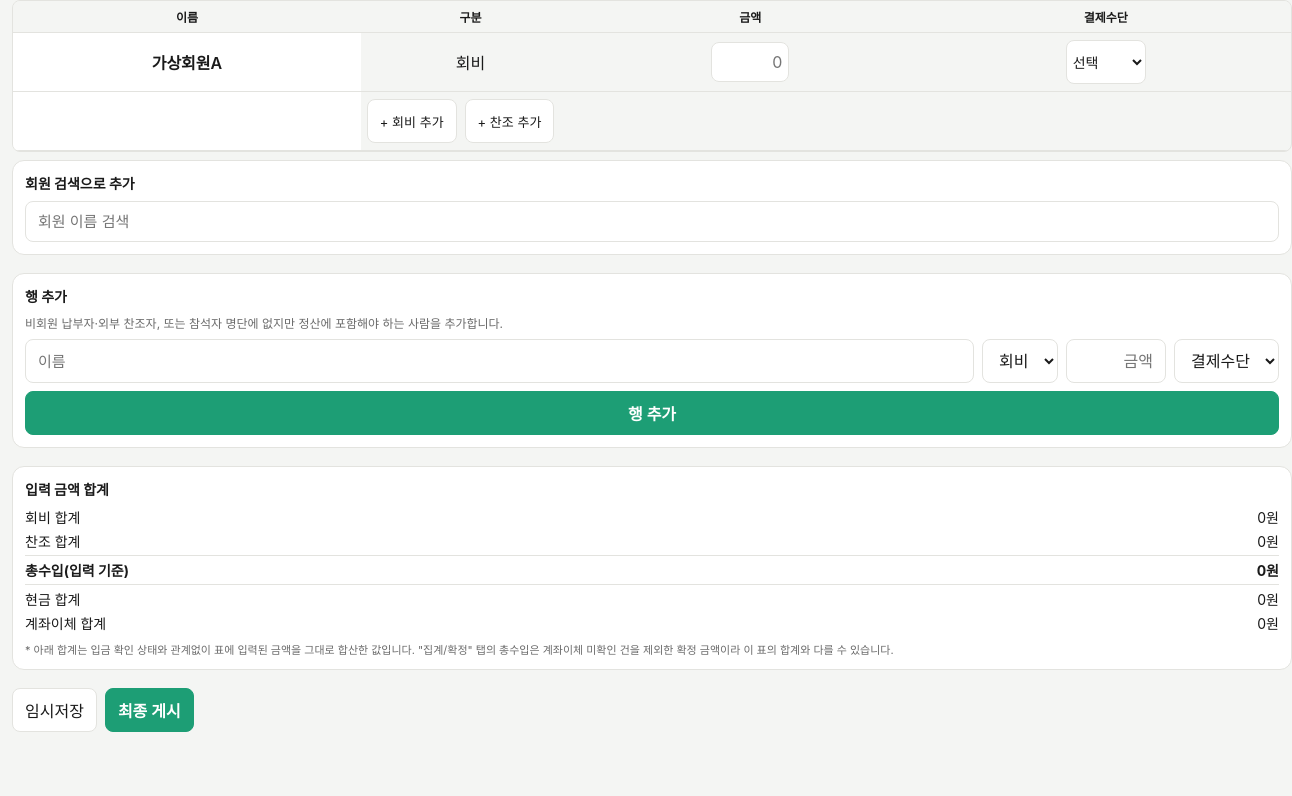
Test: 4. 계좌이체 찬조 › 상태 select 노출, 기본값 미확인, 총수입 제외, 미확인 합계 포함
This screenshot has width=1292, height=796.
Click the button "+ 찬조 추가". click: (510, 121)
box: [465,99,554,143]
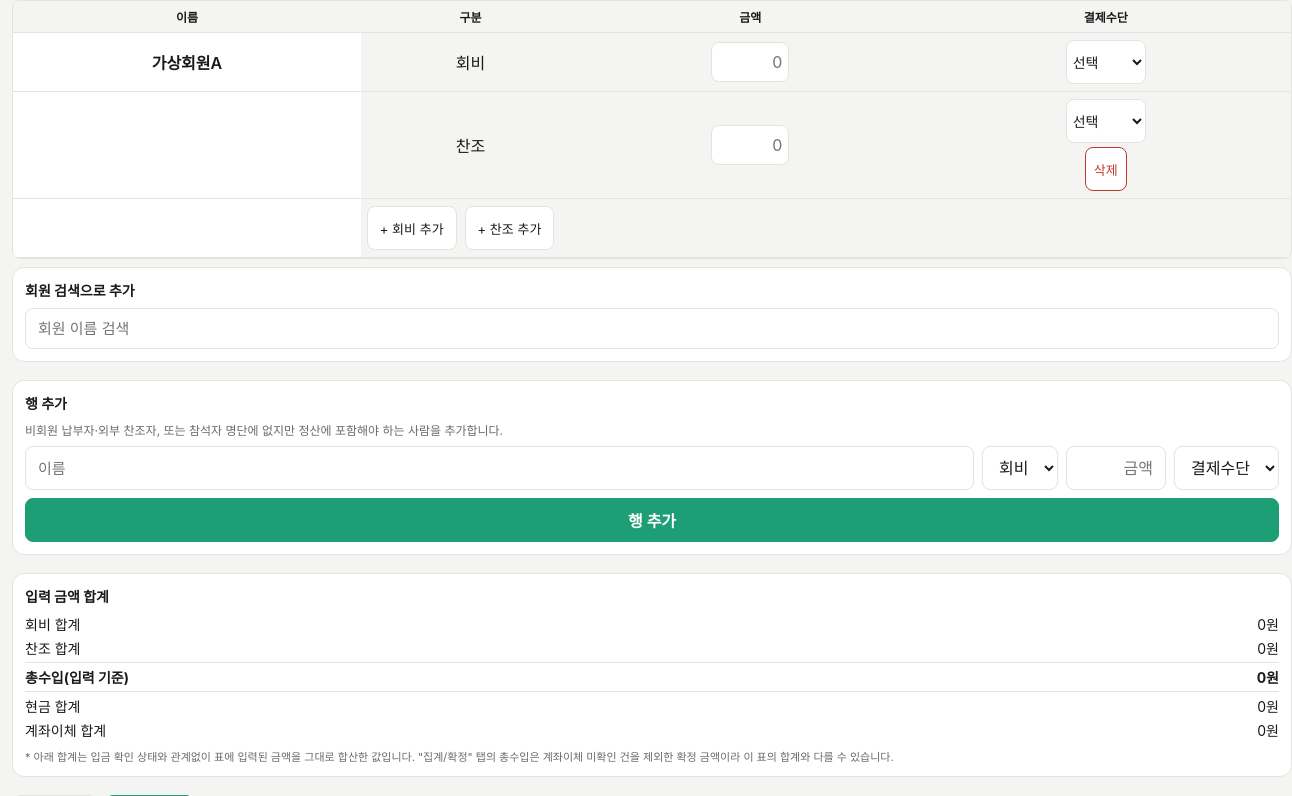
Type "20000" into the field named "가상회원A 찬조 금액". click: (750, 145)
box: [711,125,789,165]
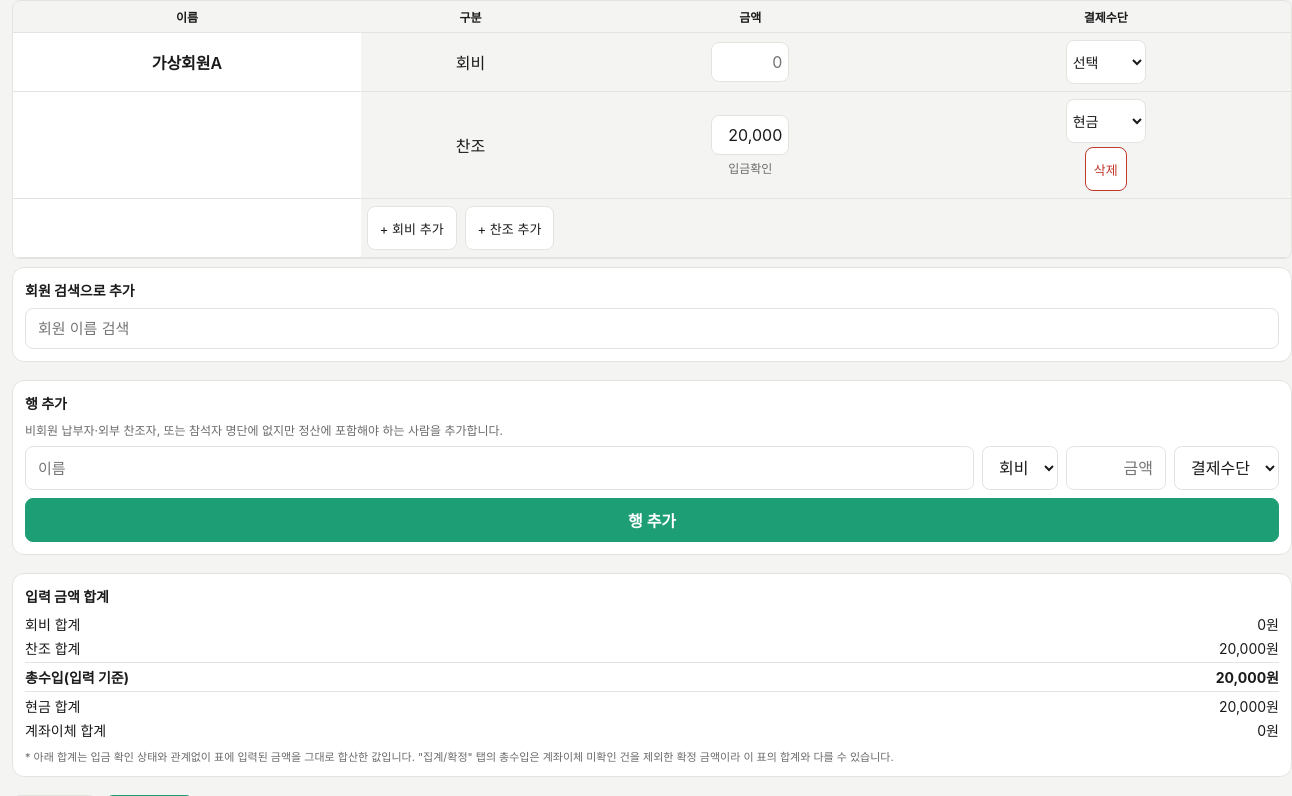
Select "계좌이체" in the dropdown named "가상회원A 찬조 결제수단". click: (1106, 121)
box: [1066,99,1146,143]
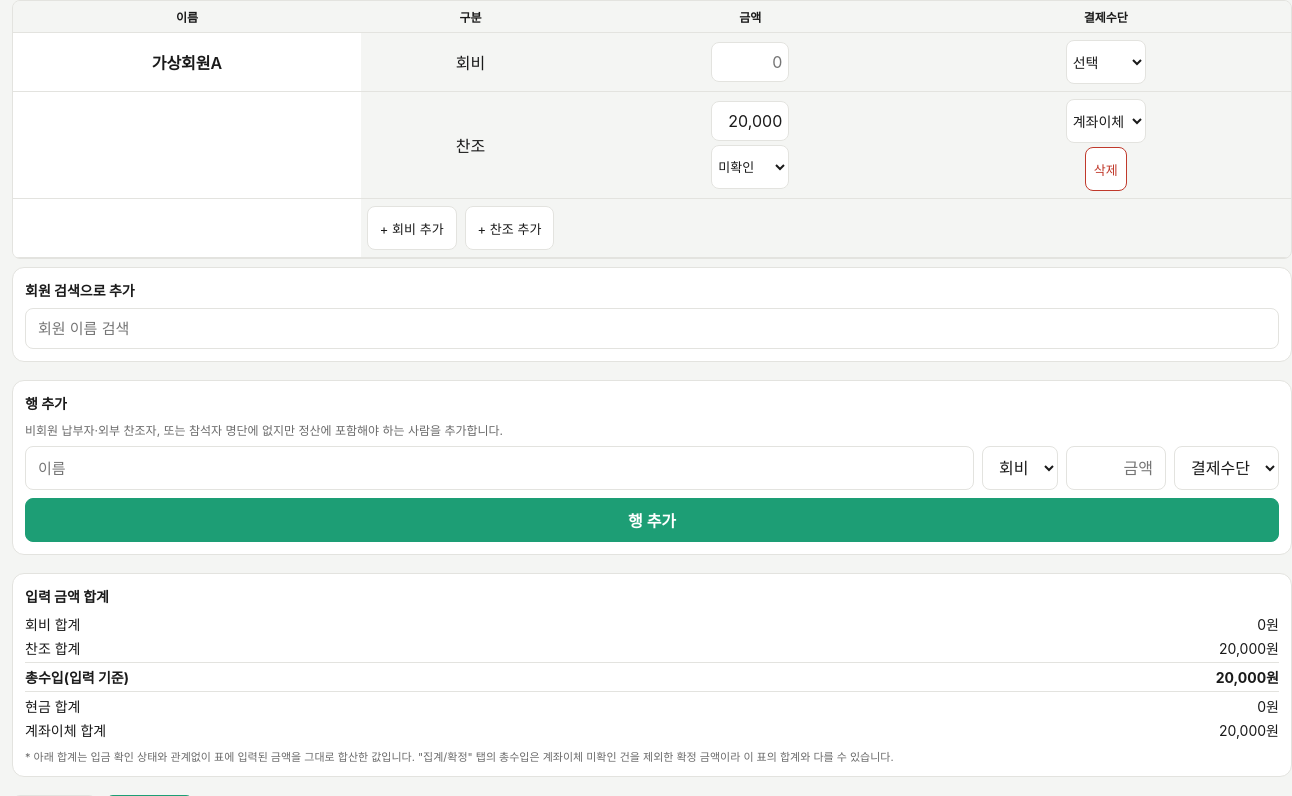
Result: the dropdown named "가상회원A 찬조 확인상태" shows "미확인" at [711,145,789,189]
